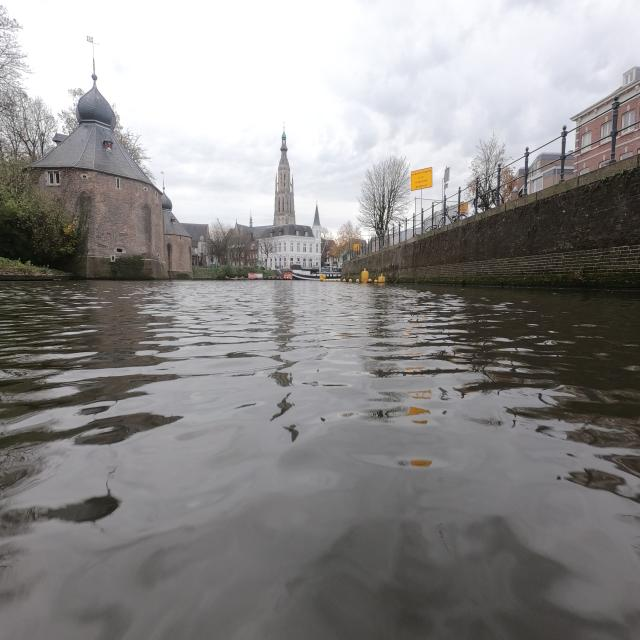grass: (0, 257, 57, 275)
sky: (4, 2, 638, 230)
tree: (0, 161, 78, 269)
wall: (346, 158, 638, 284), (28, 73, 192, 279)
water: (2, 290, 638, 634)
